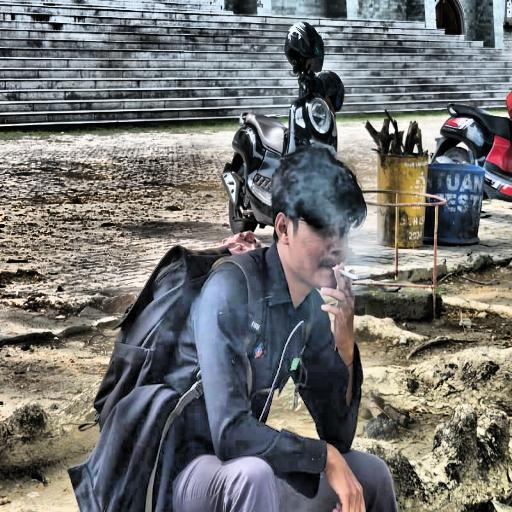Asbak: (335, 267, 358, 282)
Merokok: (274, 154, 365, 364)
